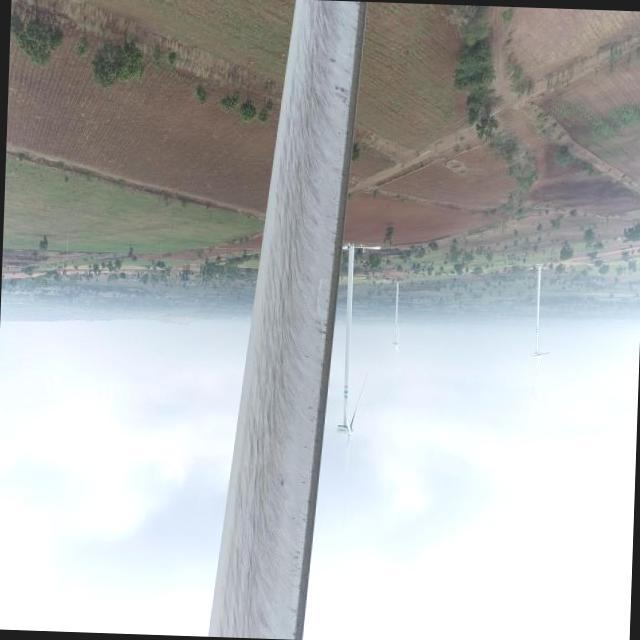Dirt: (205, 1, 367, 640)
